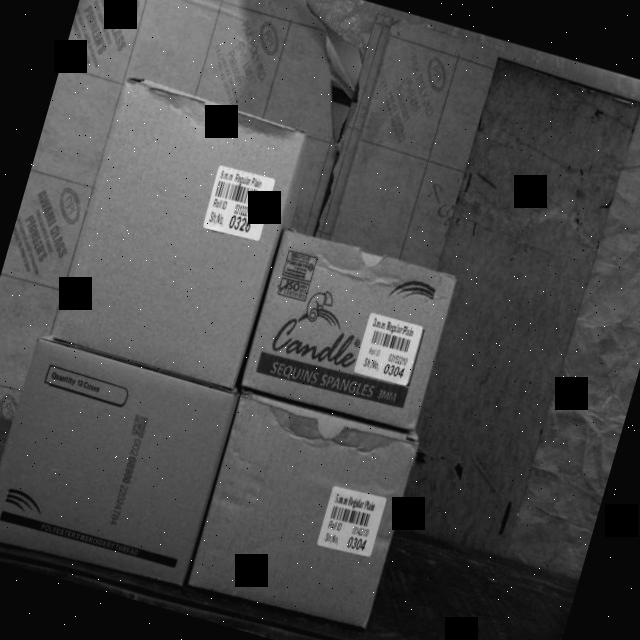box: (52, 76, 311, 392), (0, 335, 238, 588), (186, 393, 422, 640), (238, 226, 459, 438)
